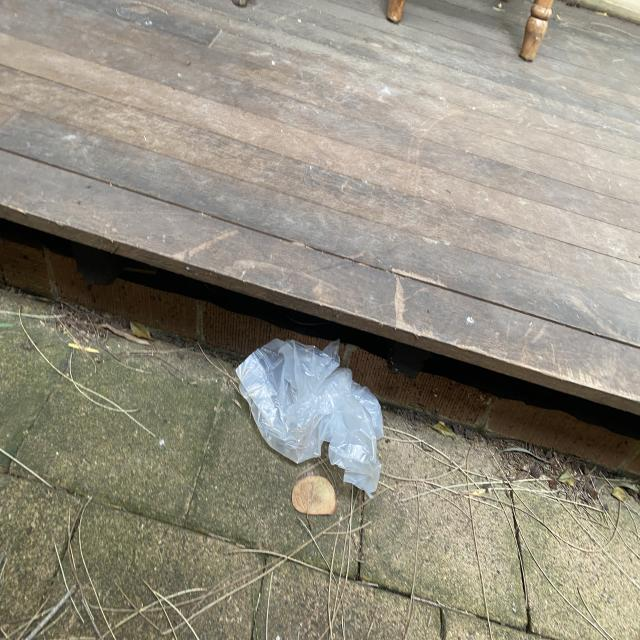bag: (234, 332, 388, 504)
